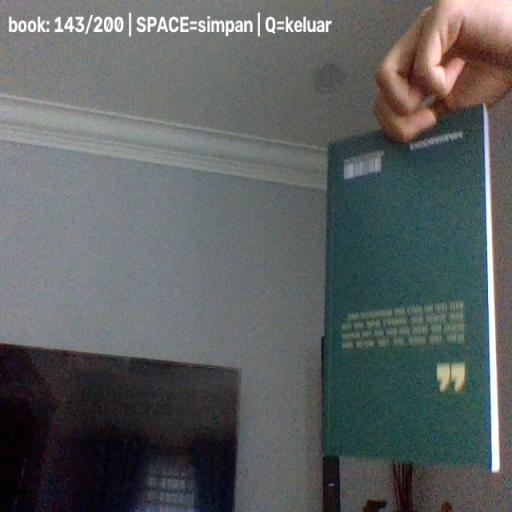Book: (321, 102, 500, 475)
